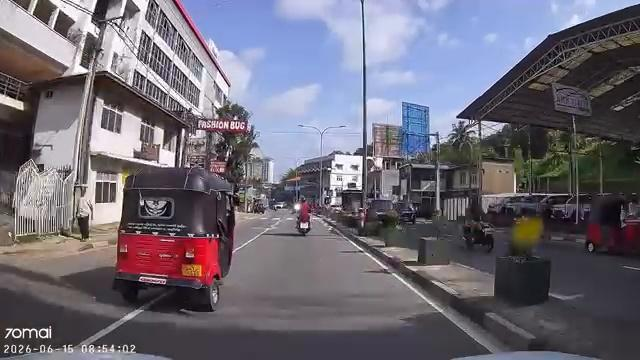illegal overtaking: (115, 154, 254, 318)
